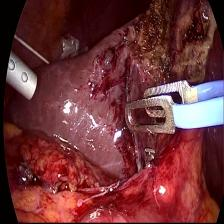Bipolar: (119, 63, 224, 151)
Irrigator: (3, 55, 39, 109)
Specimen Bag: (57, 19, 89, 71)
